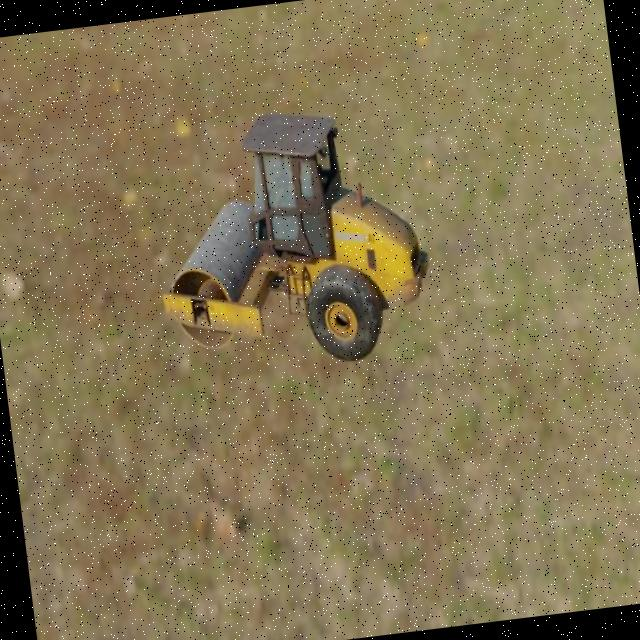Roller: (141, 95, 440, 382)
